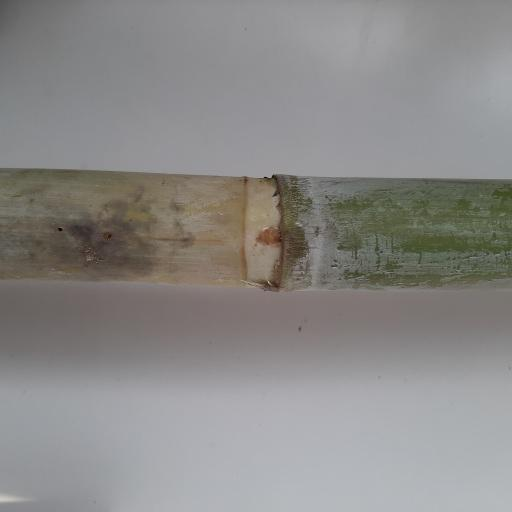Damage_Bud: (253, 225, 284, 246)
